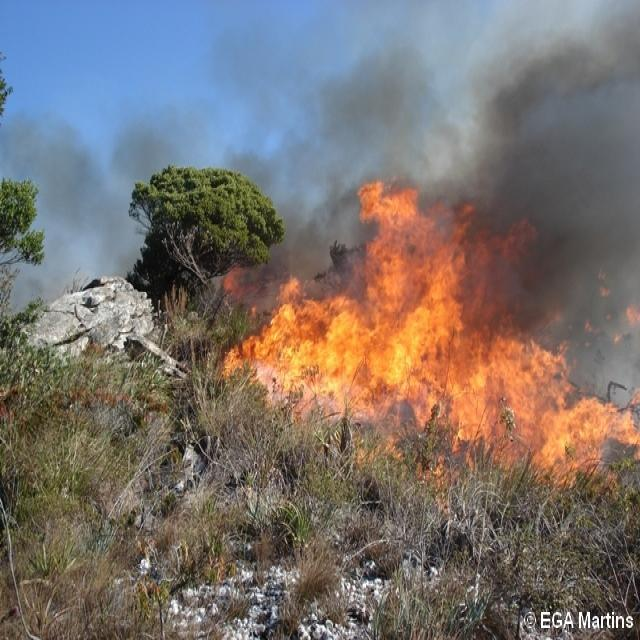Fire: (227, 304, 640, 468), (328, 180, 491, 304)
Smoke: (493, 1, 640, 302)
